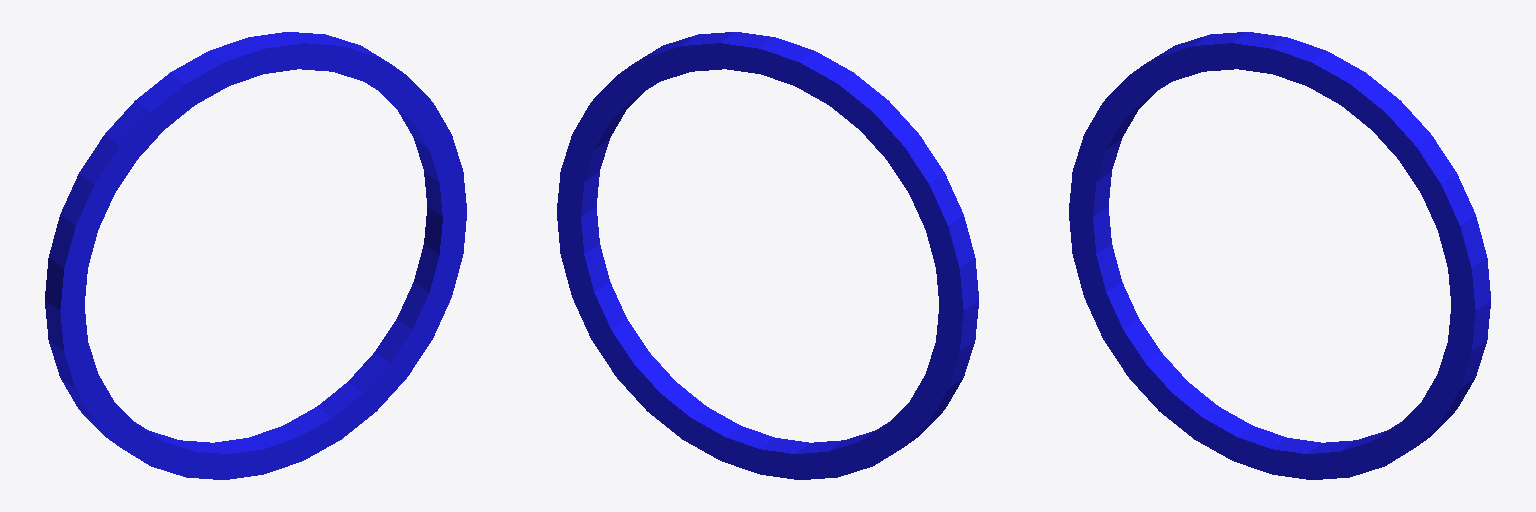
The picture shows the model from 3 angles: view 1: azimuth 30°, elevation 25°; view 2: azimuth 150°, elevation 25°; view 3: azimuth 330°, elevation 25°; orthographic projection.
Visible parts, largest first — view 1: Cylinder; view 2: Cylinder; view 3: Cylinder.
Boxes of the visible parts, <box> form: Cylinder: <box>45,32,466,479</box>; Cylinder: <box>557,32,978,479</box>; Cylinder: <box>1069,32,1490,479</box>.
Size of the model in its own units: 12 by 12 by 0.8.
1 materials, 1 textured.